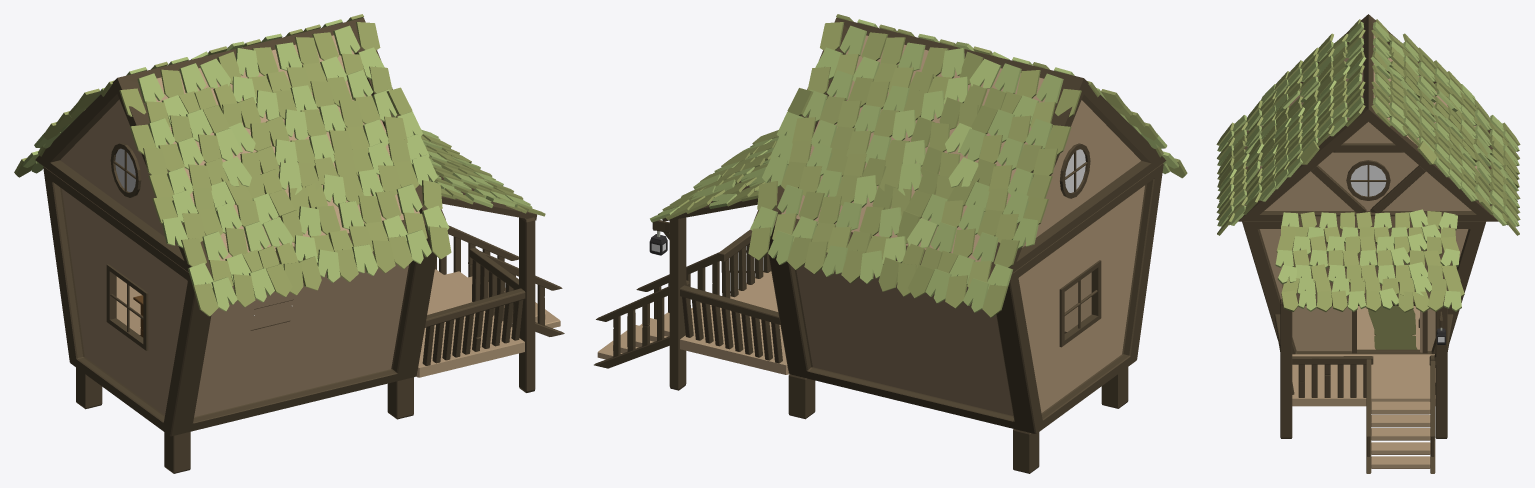
The model's file is Housee1.fbx.
3 views of the same model, side by side, from view 1: azimuth 30°, elevation 25°; view 2: azimuth 150°, elevation 25°; view 3: azimuth 270°, elevation 25° (orthographic). The views are drawn at different scales.
Parts seen in each view (by area): view 1: kapı.002; view 2: kapı.002; view 3: kapı.002.
Part boxes in pixels (<box>): kapı.002: <box>14,14,564,473</box>; kapı.002: <box>594,14,1187,473</box>; kapı.002: <box>1216,14,1520,473</box>.
Size of the model in its own units: 1193 by 906 by 860.
